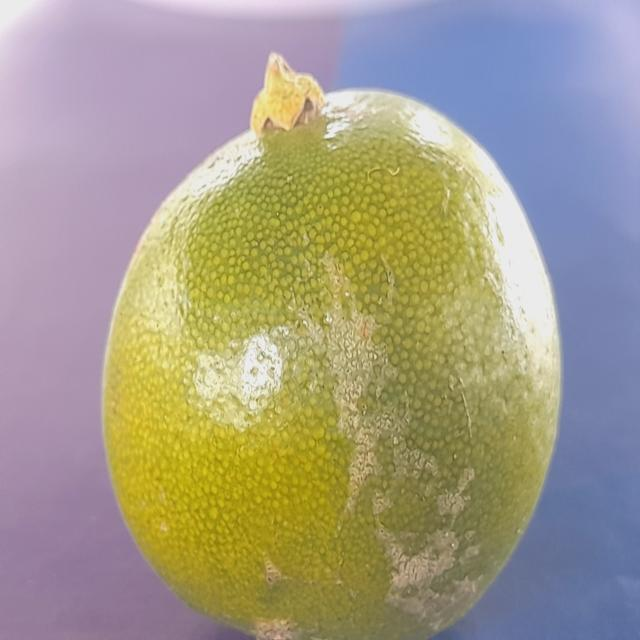thrips: (82, 51, 564, 640)
